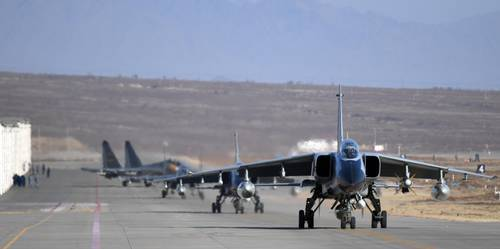airplane: (138, 93, 500, 229)
